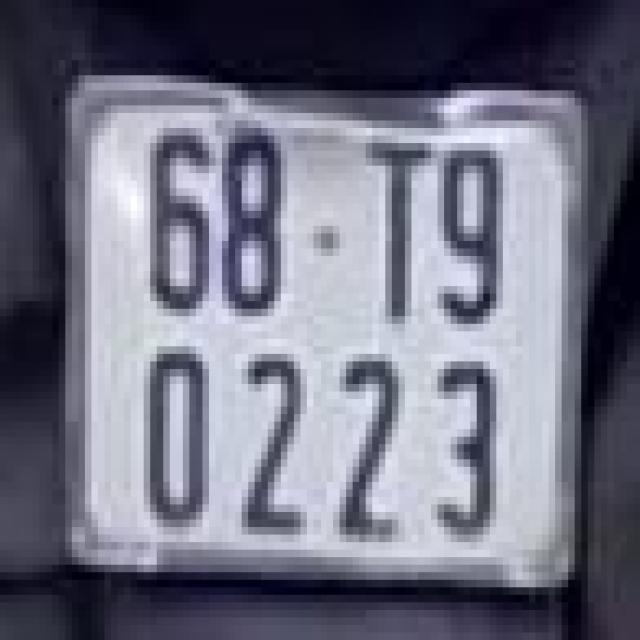0: (137, 339, 222, 527)
2: (326, 342, 418, 554), (232, 342, 310, 554)
3: (431, 339, 516, 542)
6: (140, 113, 219, 316)
8: (215, 116, 294, 328)
9: (431, 140, 509, 328)
T: (352, 128, 438, 339)
